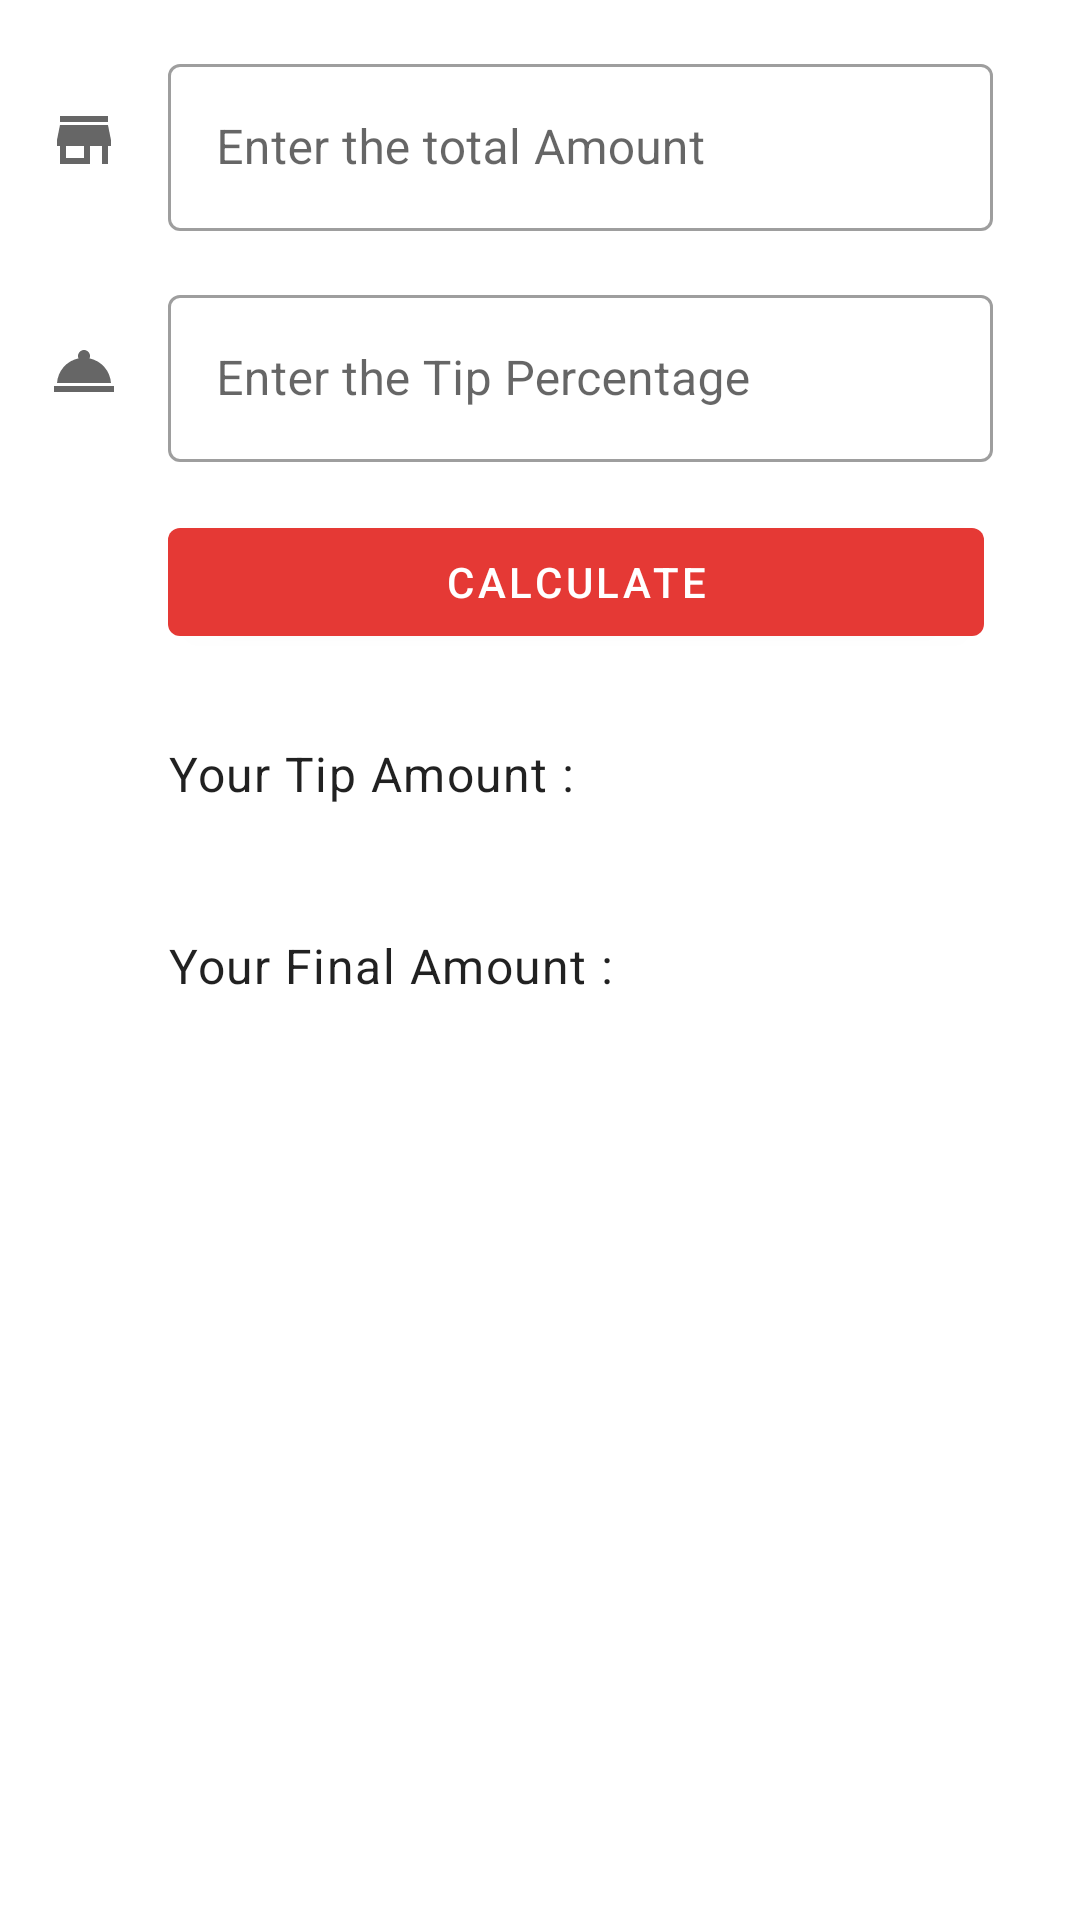

Named icons in this screenshot (1080 × 1920) and their bounding boxes, [x1=x1, y1=y1, x2=x2, y2=y2]:
service: [x1=54, y1=350, x2=114, y2=392]
store: [x1=57, y1=116, x2=111, y2=164]
